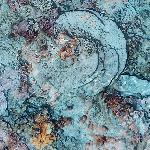dead: (2, 1, 148, 149)
